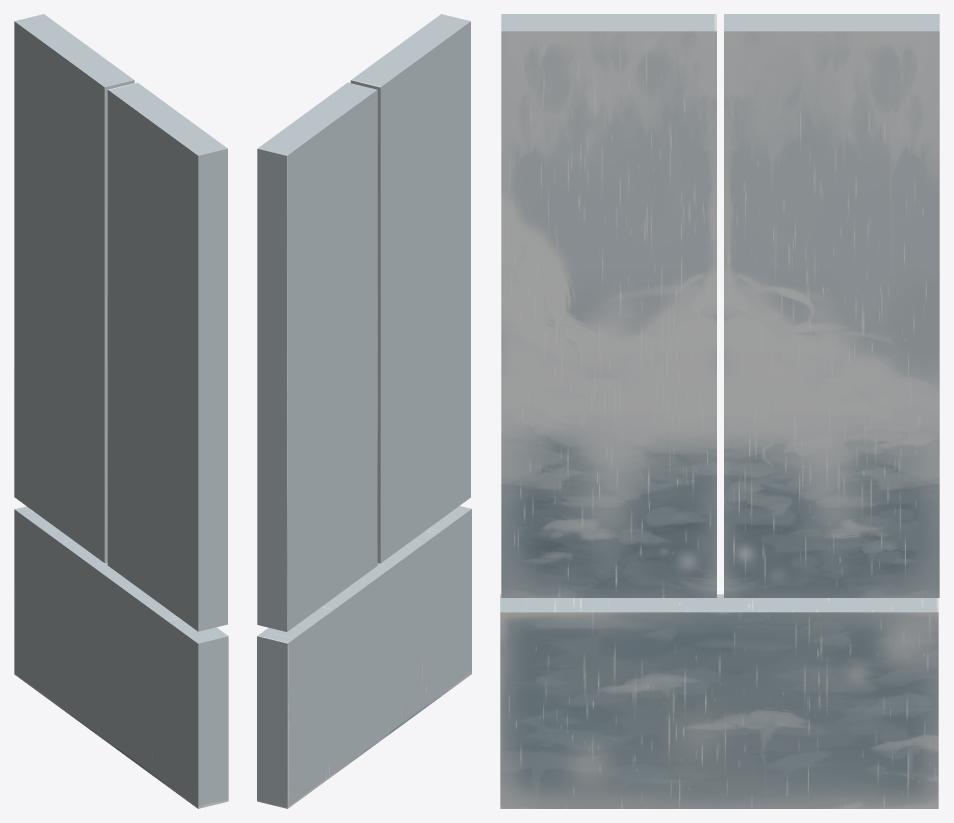
The model's file is actual_window_texture.fbx.
3 renders of one model, left to right at view 1: azimuth 30°, elevation 25°; view 2: azimuth 150°, elevation 25°; view 3: azimuth 270°, elevation 25°, orthographic. The views are drawn at different scales.
Parts seen in each view (by area): view 1: Cube.010; view 2: Cube.010; view 3: Cube.010.
Boxes of the visible parts, box(x1,y1,x2,y2) form: Cube.010: box(14, 14, 228, 808); Cube.010: box(257, 14, 471, 808); Cube.010: box(500, 14, 939, 808).
Size of the model in its own units: 28.55 by 581 by 297.
